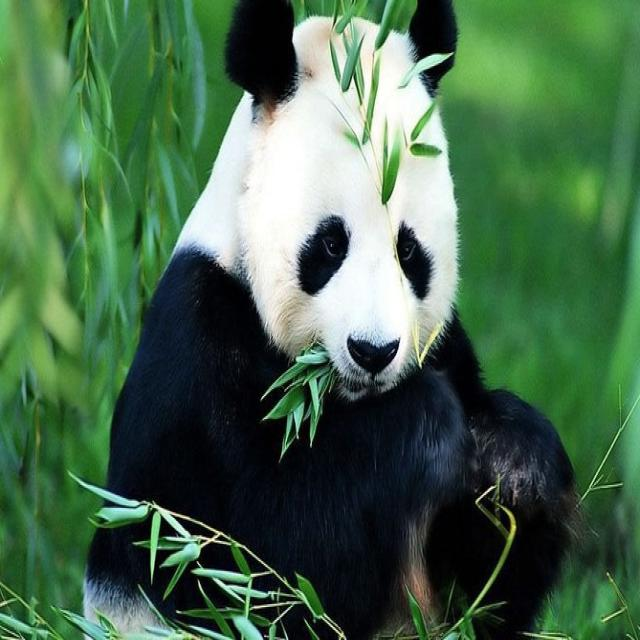panda: (84, 0, 578, 639)
